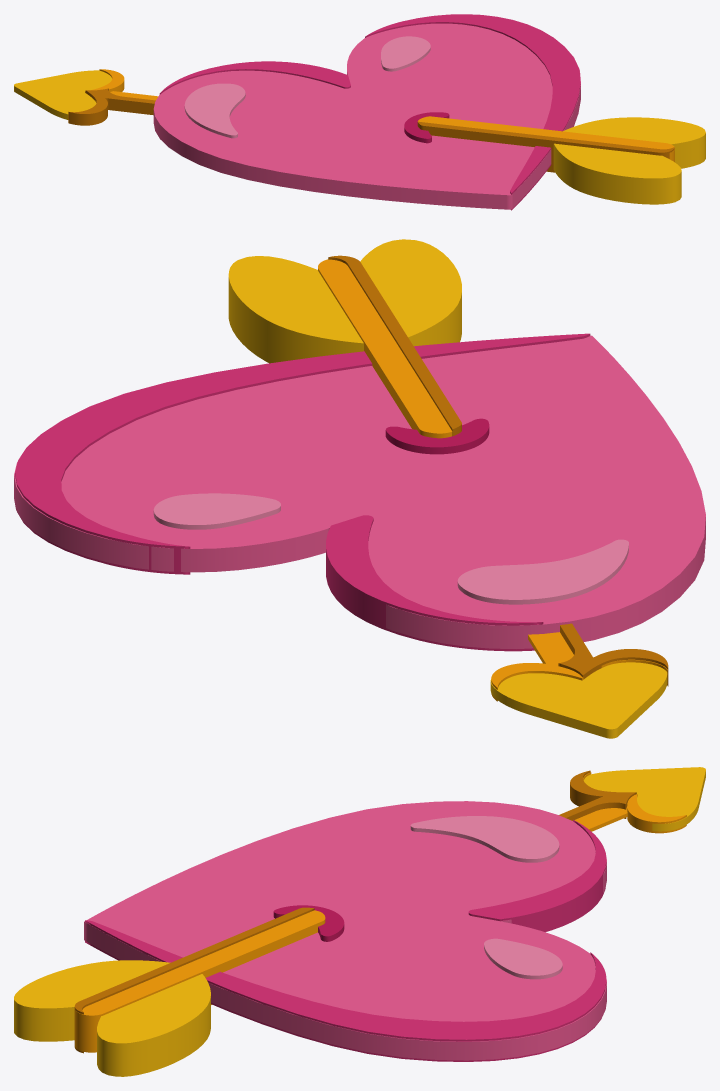
The model's file is emoji_u1f498.glb.
3 views of the same model, one above another, from view 1: azimuth 30°, elevation 25°; view 2: azimuth 150°, elevation 25°; view 3: azimuth 270°, elevation 25° (orthographic). The views are drawn at different scales.
Parts seen in each view (by area): view 1: emoji_u1f498; view 2: emoji_u1f498; view 3: emoji_u1f498.
Boxes of the visible parts, box(x1,y1,x2,y2) form: emoji_u1f498: box(14, 14, 705, 210); emoji_u1f498: box(14, 239, 705, 738); emoji_u1f498: box(14, 767, 705, 1076).
Size of the model in its own units: 0.0335 by 0.0022 by 0.0338.
